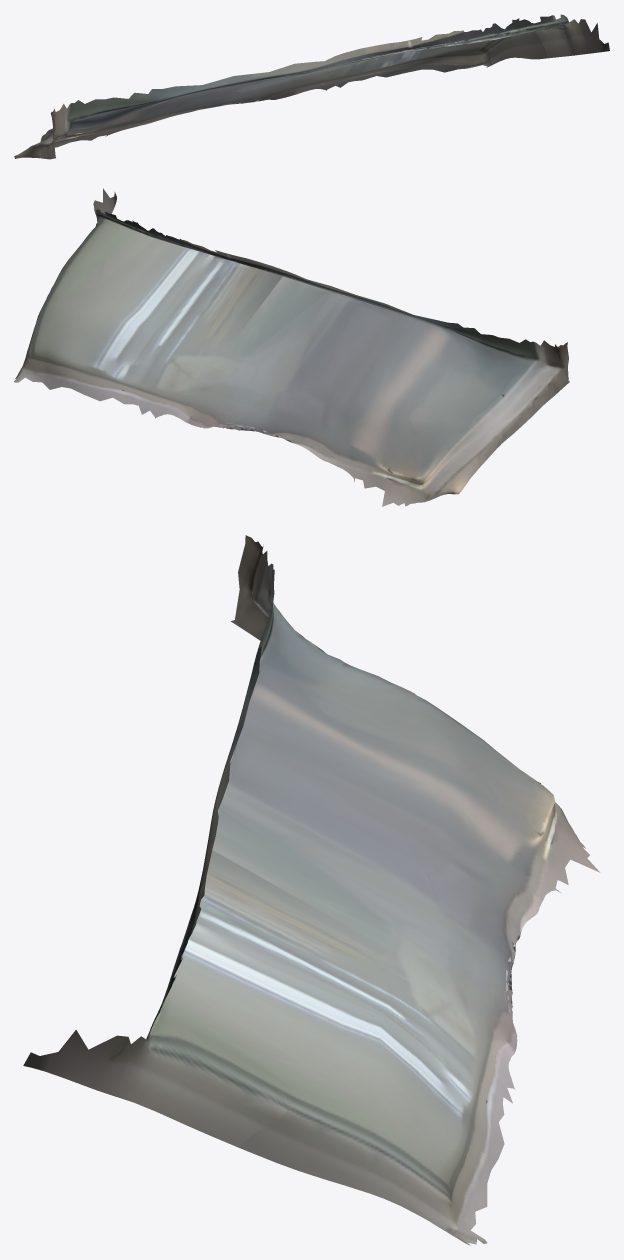
The model's file is 경비실외벽.fbx.
3 renders of one model, top to bottom at view 1: azimuth 30°, elevation 25°; view 2: azimuth 150°, elevation 25°; view 3: azimuth 270°, elevation 25°, orthographic. The views are drawn at different scales.
Visible parts, largest first — view 1: Untitled; view 2: Untitled; view 3: Untitled.
Boxes of the visible parts, box(x1,y1,x2,y2) form: Untitled: box(14, 14, 609, 159); Untitled: box(14, 188, 569, 506); Untitled: box(23, 535, 600, 1245).
Size of the model in its own units: 82.95 by 18.91 by 40.07.
1 material, 1 textured.
